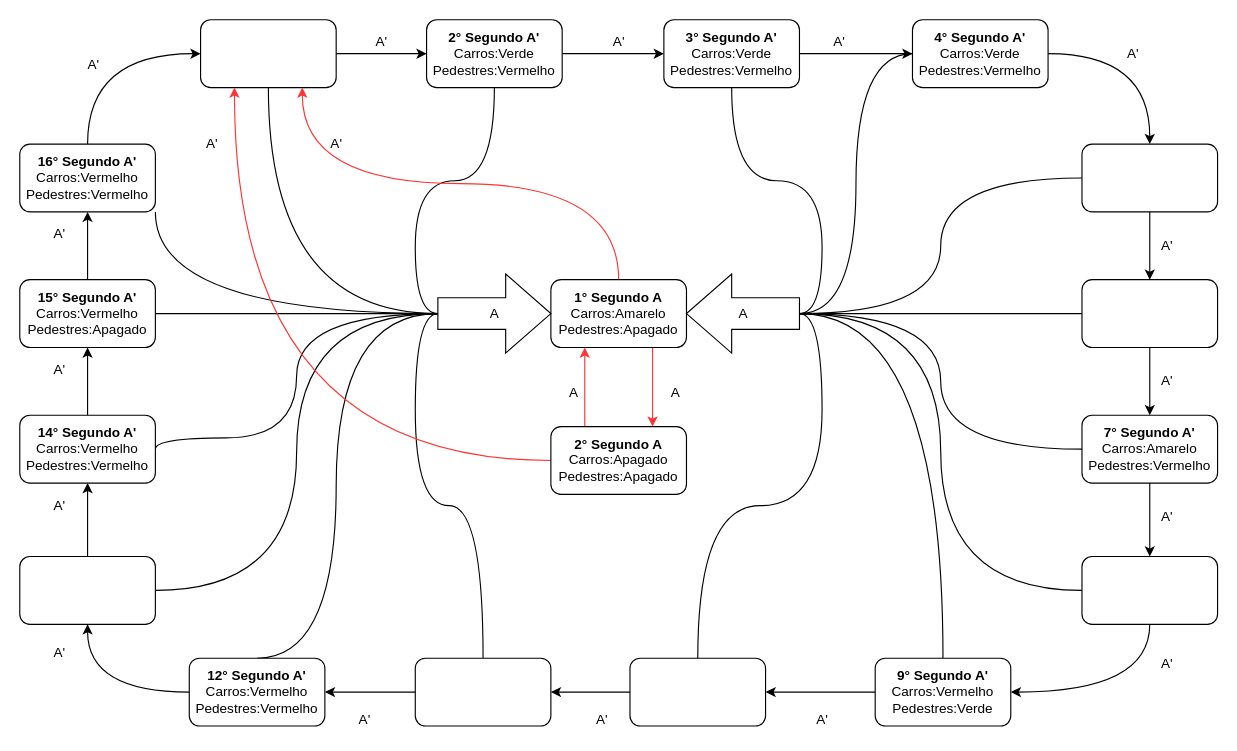
The diagram is 1237 pixels wide and 751 high, and some of its shapes have lost their labels. The shapes that lost their labels are listed below. From the top down, each one's box as (x1, y1, x2, y2) in pixels, then its label:
(199, 19, 336, 88): 1° Segundo A' Carros:Verde Pedestres:Vermelho
(1081, 143, 1218, 212): 5° Segundo A' Carros:Verde Pedestres:Vermelho
(1081, 279, 1218, 347): 6° Segundo A' Carros:Verde Pedestres:Vermelho
(19, 555, 155, 624): 13° Segundo A' Carros:Vermelho Pedestres:Apagado
(1081, 555, 1218, 624): 8° Segundo A' Carros:Vermelho Pedestres:Verde
(414, 657, 551, 726): 11° Segundo A' Carros:Vermelho Pedestres:Verde
(629, 657, 766, 726): 10° Segundo A' Carros:Vermelho Pedestres:Verde
